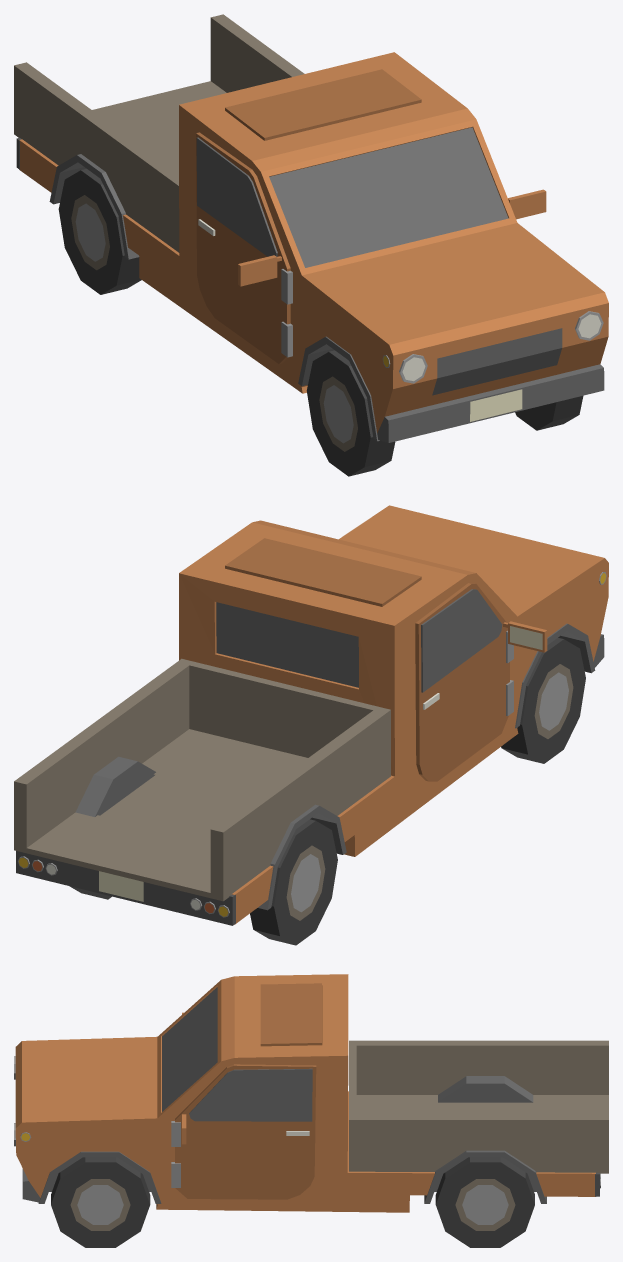
File: kar4_1.fbx
The picture shows the model from 3 angles, top to bottom: view 1: azimuth 30°, elevation 25°; view 2: azimuth 150°, elevation 25°; view 3: azimuth 270°, elevation 25°; orthographic projection. The views are drawn at different scales.
Parts seen in each view (by area): view 1: Boole_4, Cylinder_6, Cylinder_3, Cylinder_7; view 2: Boole_4, Cylinder_3, Cylinder_6; view 3: Boole_4, Cylinder_8, Cylinder_7.
Boxes of the visible parts, x1=… form: Boole_4: x1=14, y1=14, x2=608, y2=442; Cylinder_6: x1=306, y1=350, x2=395, y2=476; Cylinder_3: x1=58, y1=169, x2=141, y2=294; Cylinder_7: x1=515, y1=396, x2=583, y2=430; Boole_4: x1=14, y1=505, x2=608, y2=925; Cylinder_3: x1=250, y1=819, x2=337, y2=945; Cylinder_6: x1=501, y1=638, x2=585, y2=763; Boole_4: x1=14, y1=974, x2=608, y2=1212; Cylinder_8: x1=435, y1=1157, x2=534, y2=1247; Cylinder_7: x1=51, y1=1157, x2=150, y2=1247.
Size of the model in its own units: 213 by 166 by 462.
